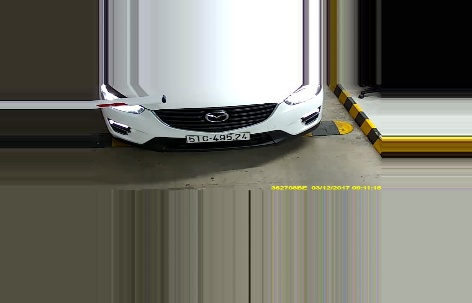plate: (183, 131, 251, 145)
